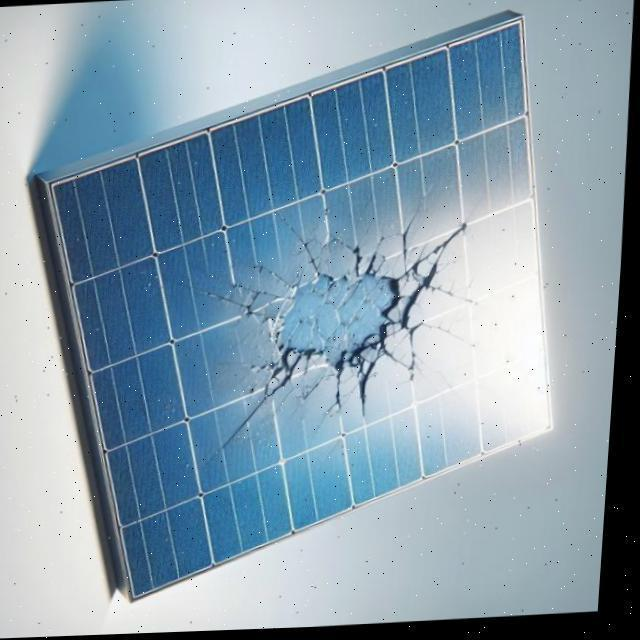Anomaly Solar Panel: (49, 23, 614, 597)
Structural Damage: (261, 216, 450, 416), (206, 394, 278, 470), (403, 215, 474, 292), (396, 184, 437, 272), (279, 206, 328, 274), (178, 274, 261, 314), (214, 269, 289, 302), (234, 252, 299, 289), (432, 285, 481, 304)
